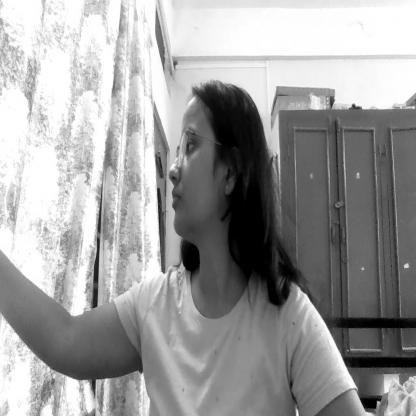Distracted: (161, 89, 238, 254)
